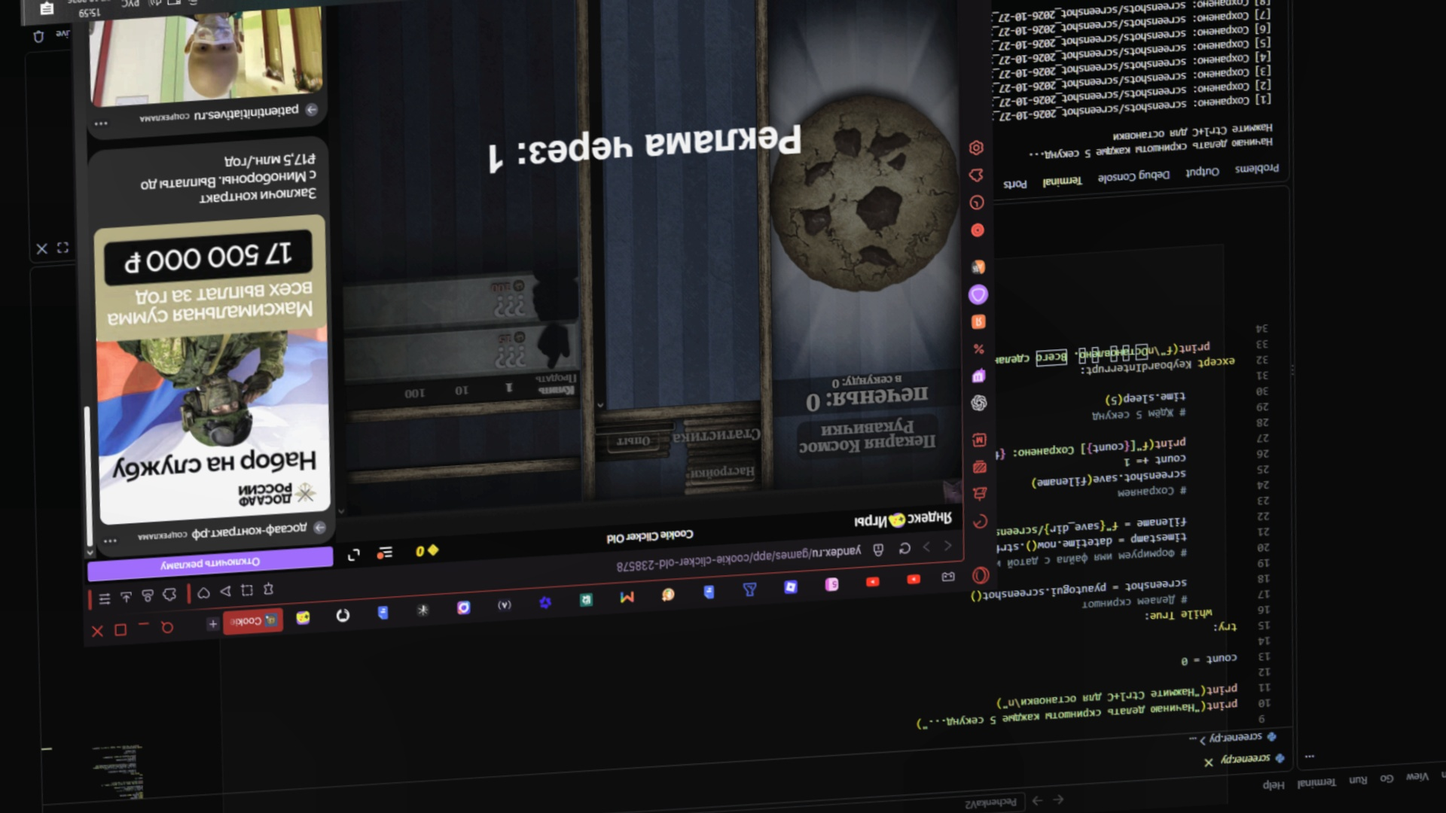game: (764, 81, 961, 285)
pokypki: (325, 283, 577, 382)
